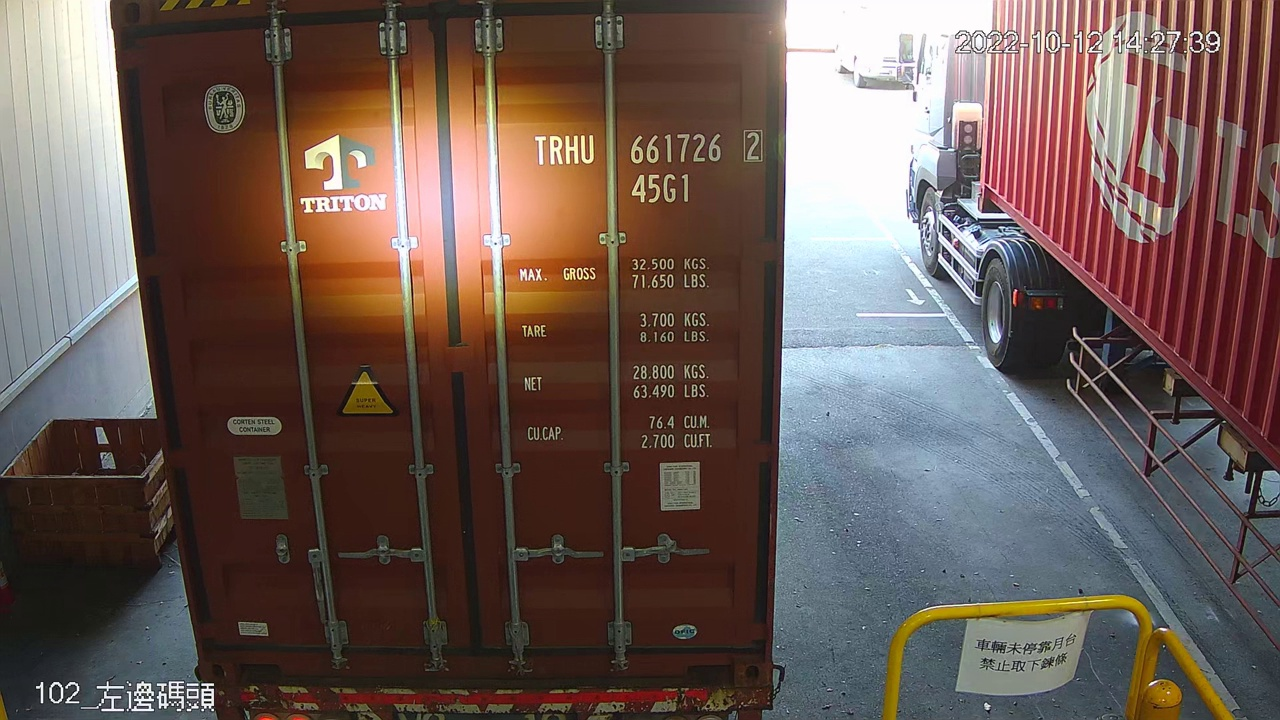container: (524, 122, 773, 212)
